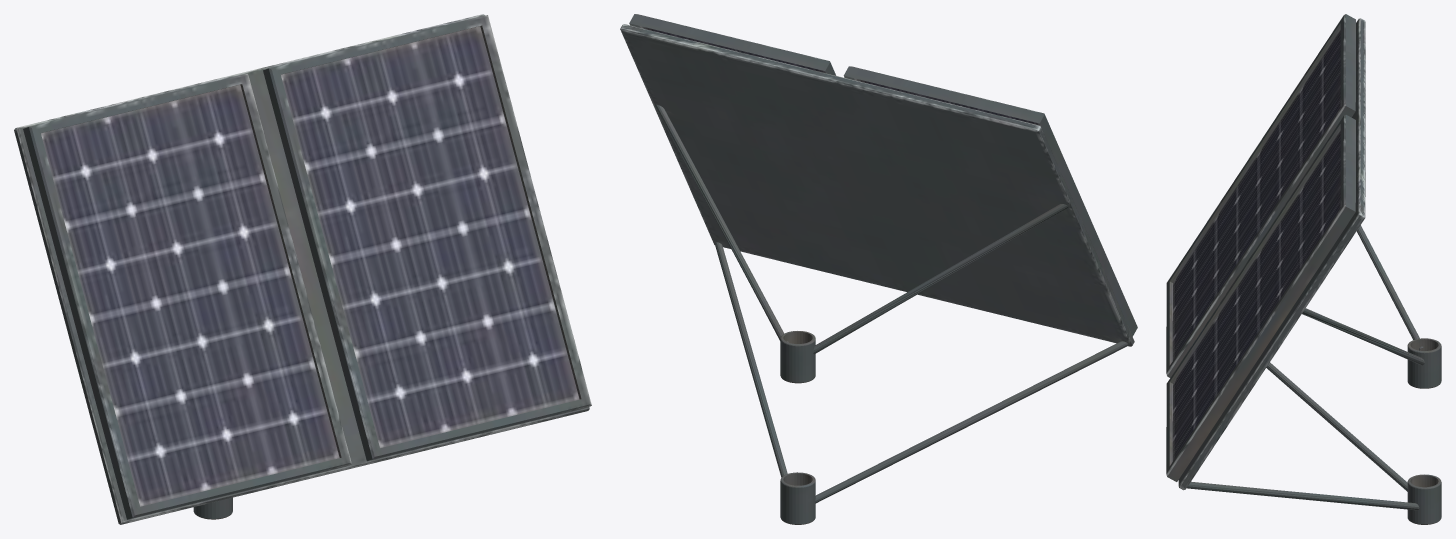
File: strAsset_16.glb
3 views of the same model, side by side, from view 1: azimuth 30°, elevation 25°; view 2: azimuth 150°, elevation 25°; view 3: azimuth 270°, elevation 25° (orthographic). The views are drawn at different scales.
Parts seen in each view (by area): view 1: geometry_0; view 2: geometry_0; view 3: geometry_0.
Part boxes in pixels (x1,y1,x2,y2): geometry_0: (14,14,591,524); geometry_0: (620,14,1137,524); geometry_0: (1166,14,1441,524).
Bounding box in the file's own units: 0.3317 × 0.3209 × 0.1963.
Materials: 1 (1 with a texture image).
